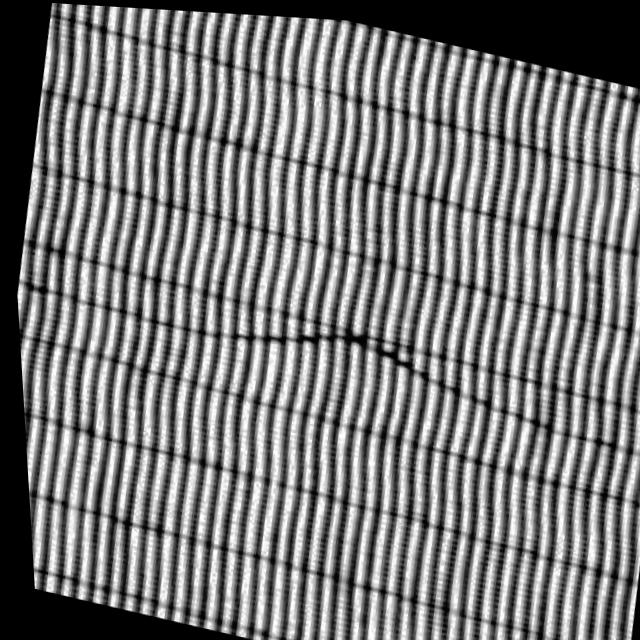Stitch: (217, 269, 526, 420)
